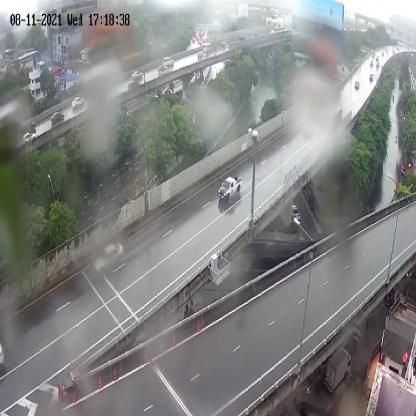car: (93, 239, 125, 279), (218, 172, 242, 206)
